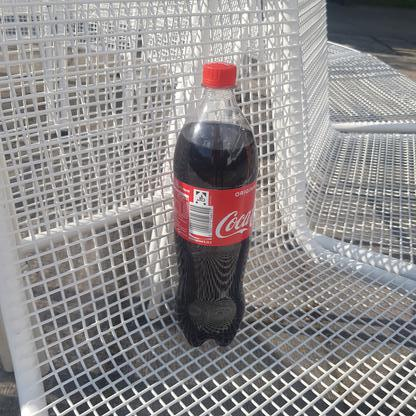coca-cola: (172, 58, 260, 350)
